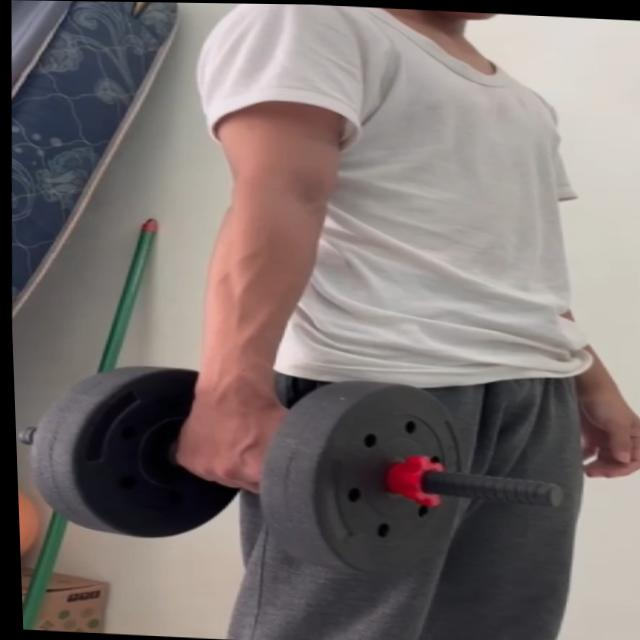hammer: (19, 358, 478, 582)
